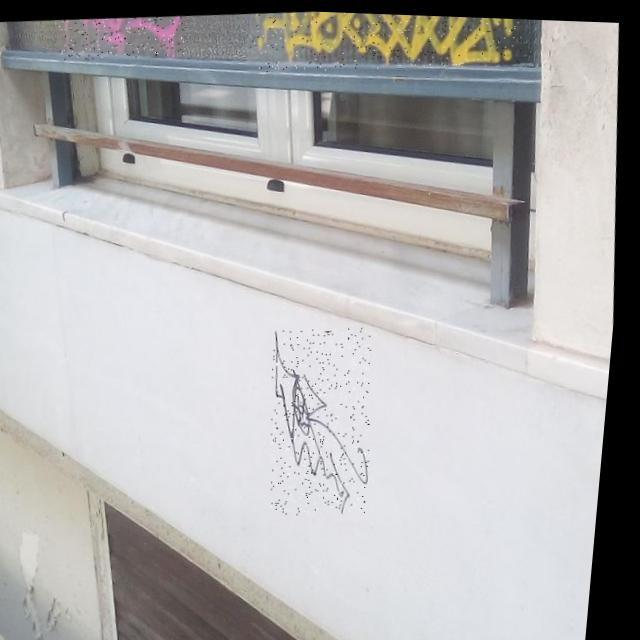-: (266, 322, 390, 516), (245, 7, 524, 78), (55, 10, 187, 64)
